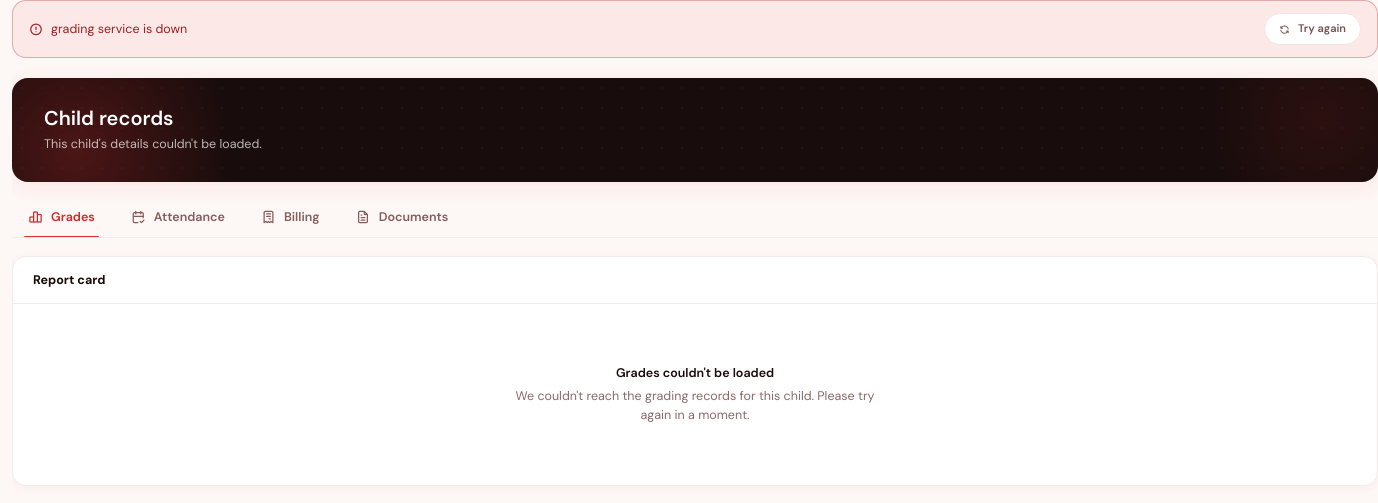
Test: GuardianChildPage — one failed call can't strand the other sections › settles attendance, billing and documents when the report card fails
The width and height of the screenshot is (1378, 503).
Expected: the text "grading service is down" is shown, [51,21,187,37]
Click the tab "Attendance": [178, 217] box [115,198,241,237]
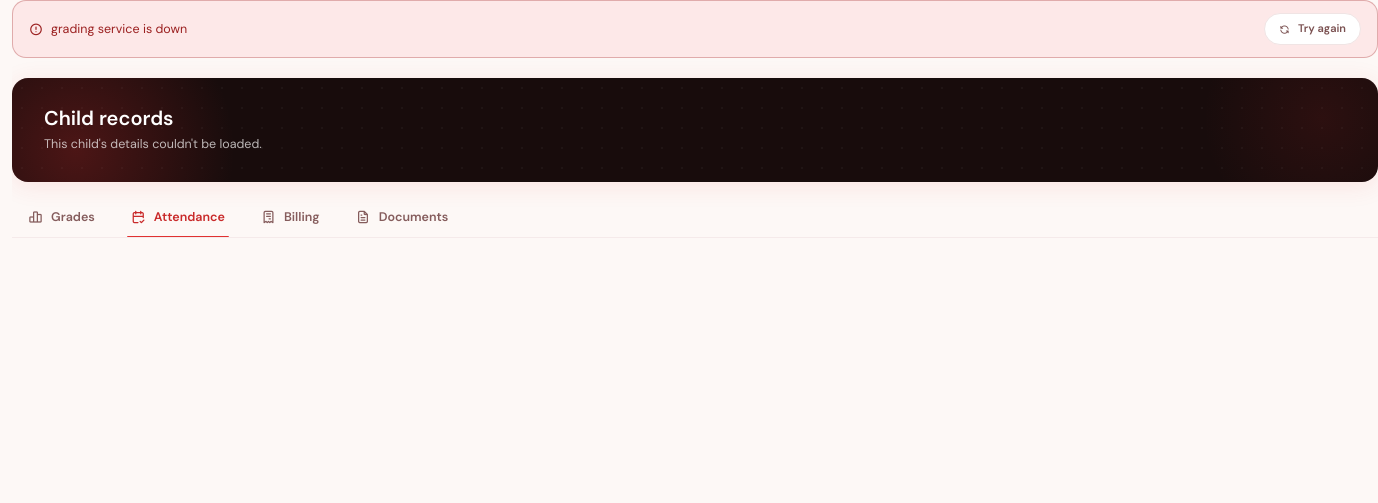
Click the tab "Billing": [290, 217] box [245,198,336,237]
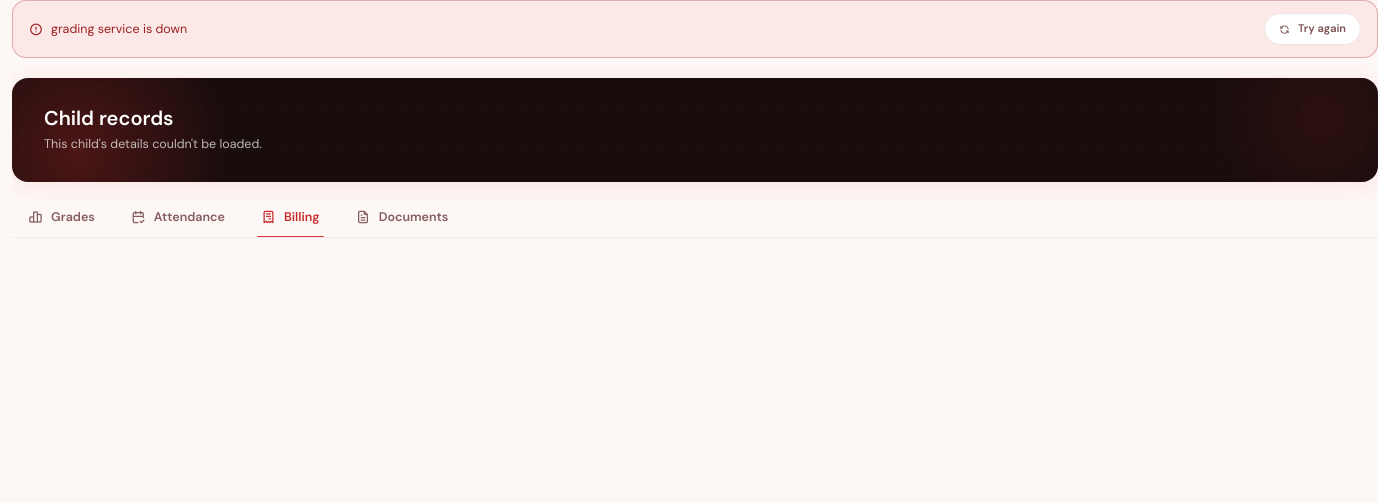
Click the tab "Documents": [402, 217] box [340,198,464,237]
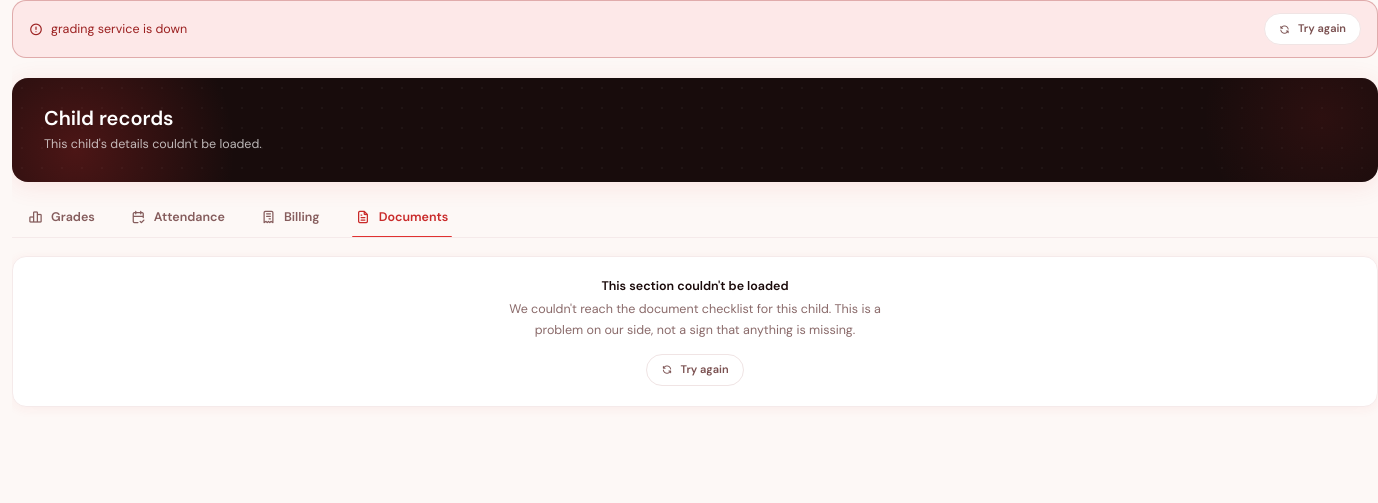
Expected: the text "This section couldn't be loaded" is shown, [601,278,789,294]
